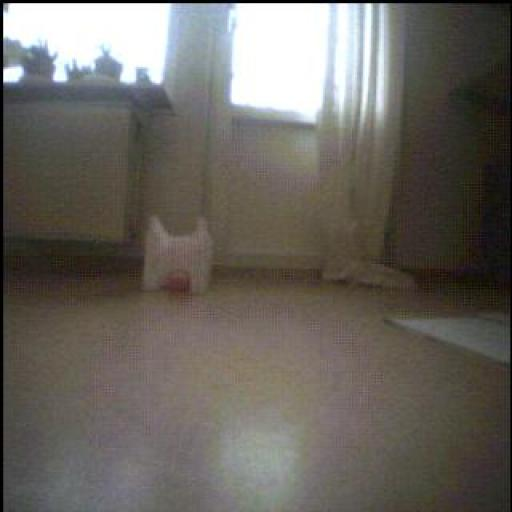Basket: (168, 271, 192, 294)
